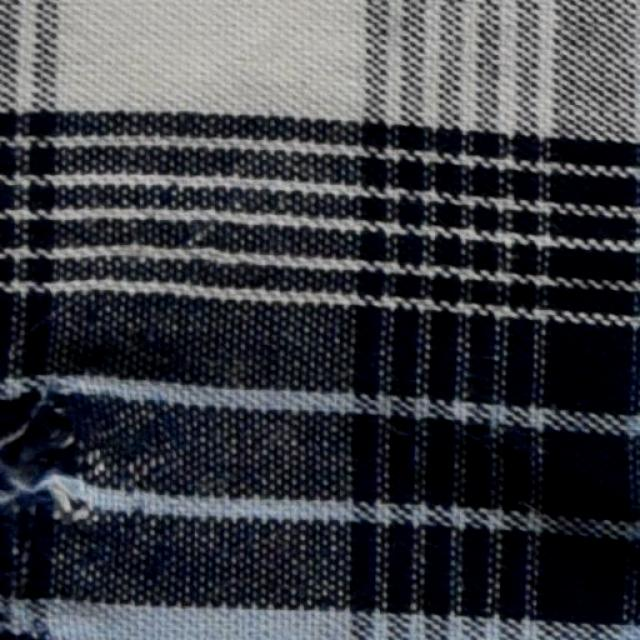Snag: (0, 344, 106, 534)
